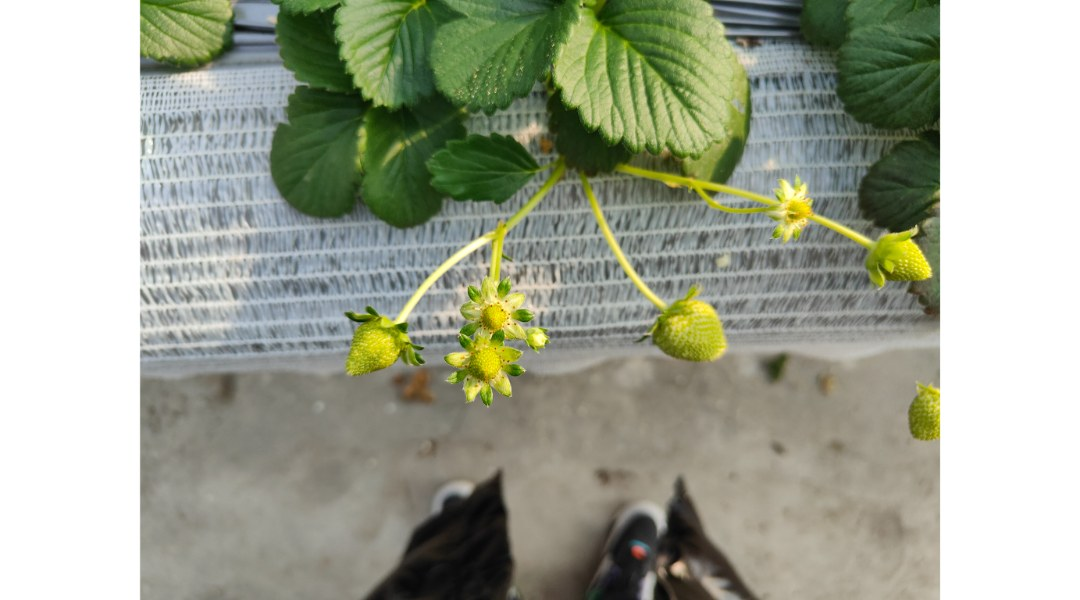berry: (328, 297, 431, 386), (645, 286, 734, 368), (861, 213, 944, 299), (447, 331, 525, 406), (897, 373, 962, 457), (460, 270, 525, 335), (759, 165, 810, 247), (530, 317, 558, 360)
strain: (577, 184, 669, 318), (396, 228, 488, 322), (617, 156, 769, 209), (510, 168, 558, 228), (828, 210, 882, 251)
